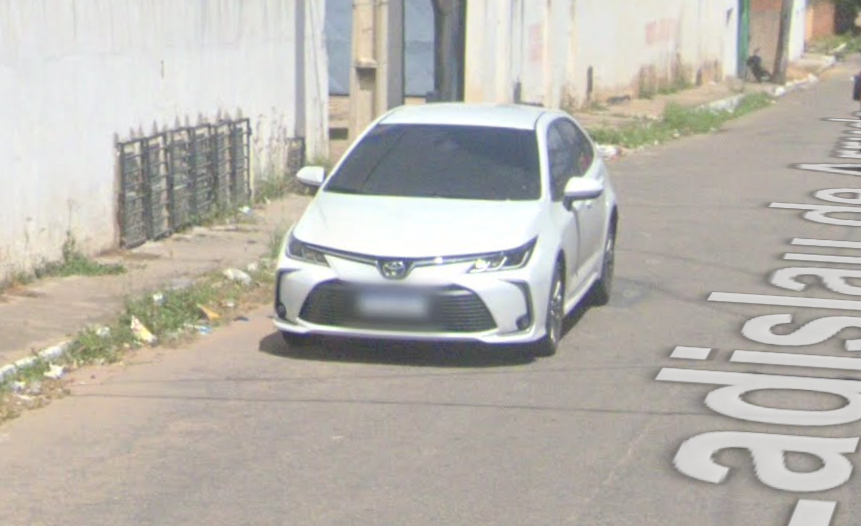car: (270, 100, 626, 373)
